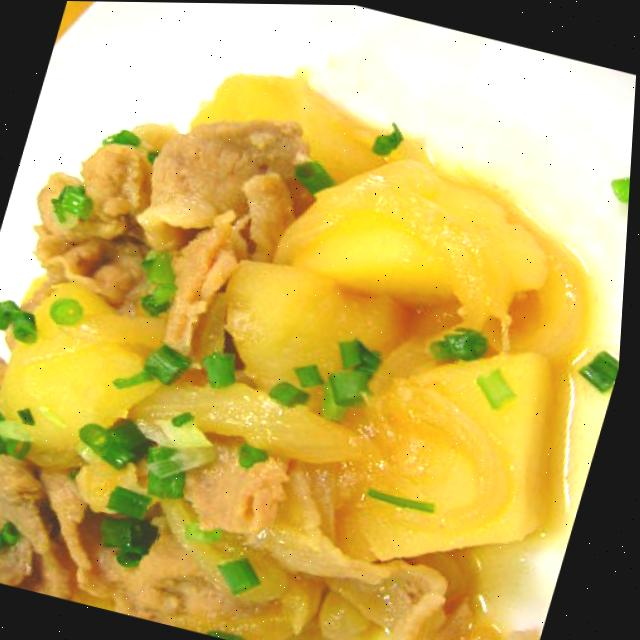牛肉菜式: (0, 2, 640, 640)
